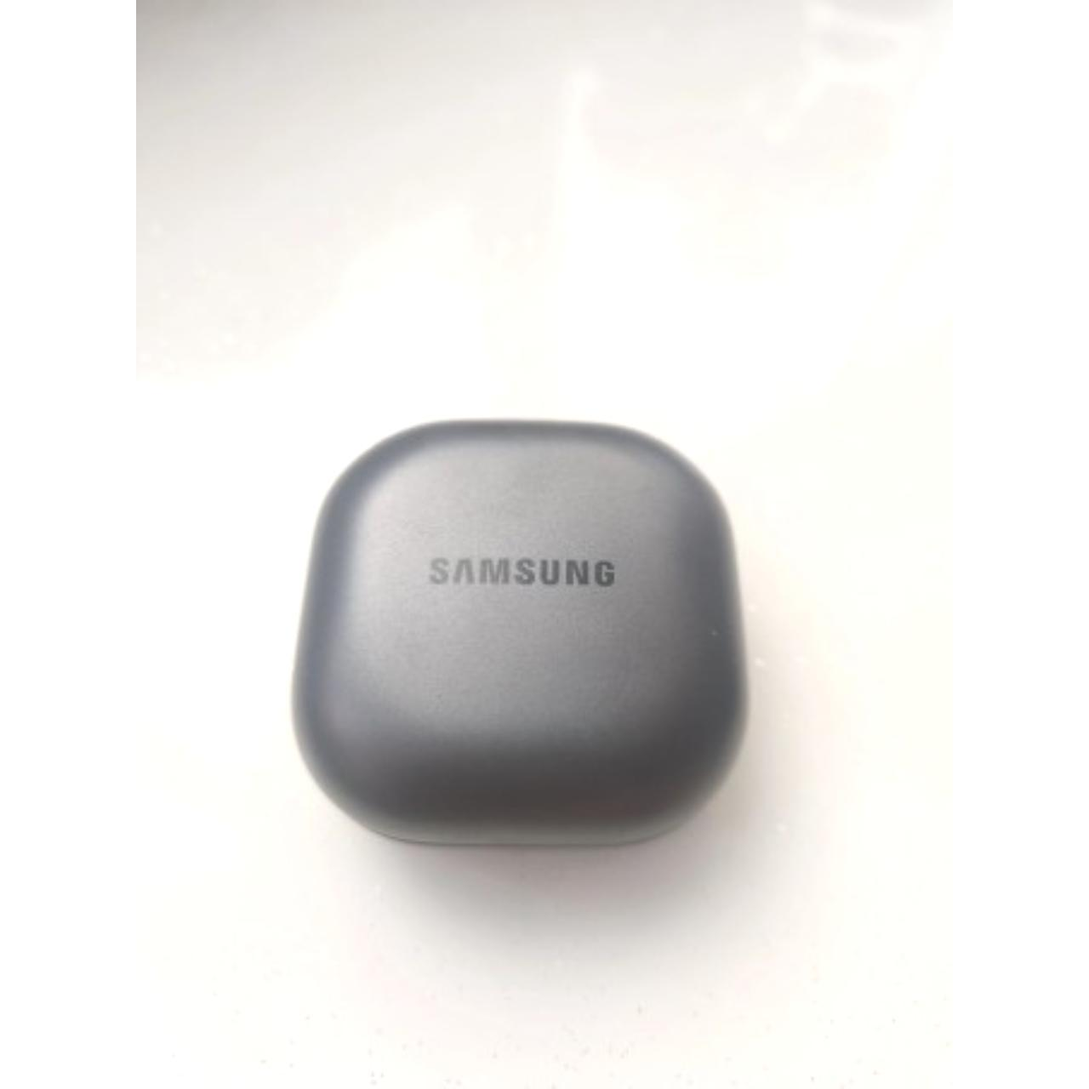Buds: (287, 411, 755, 857)
